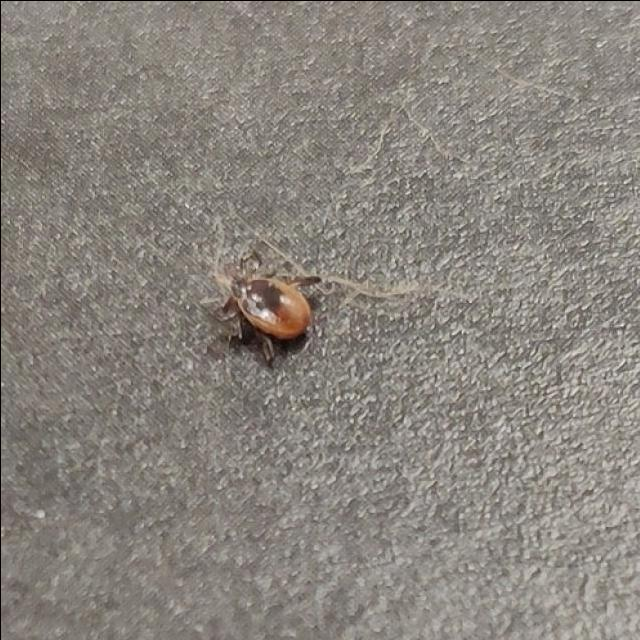Ixodes Ricinus-F: (212, 244, 321, 362)
